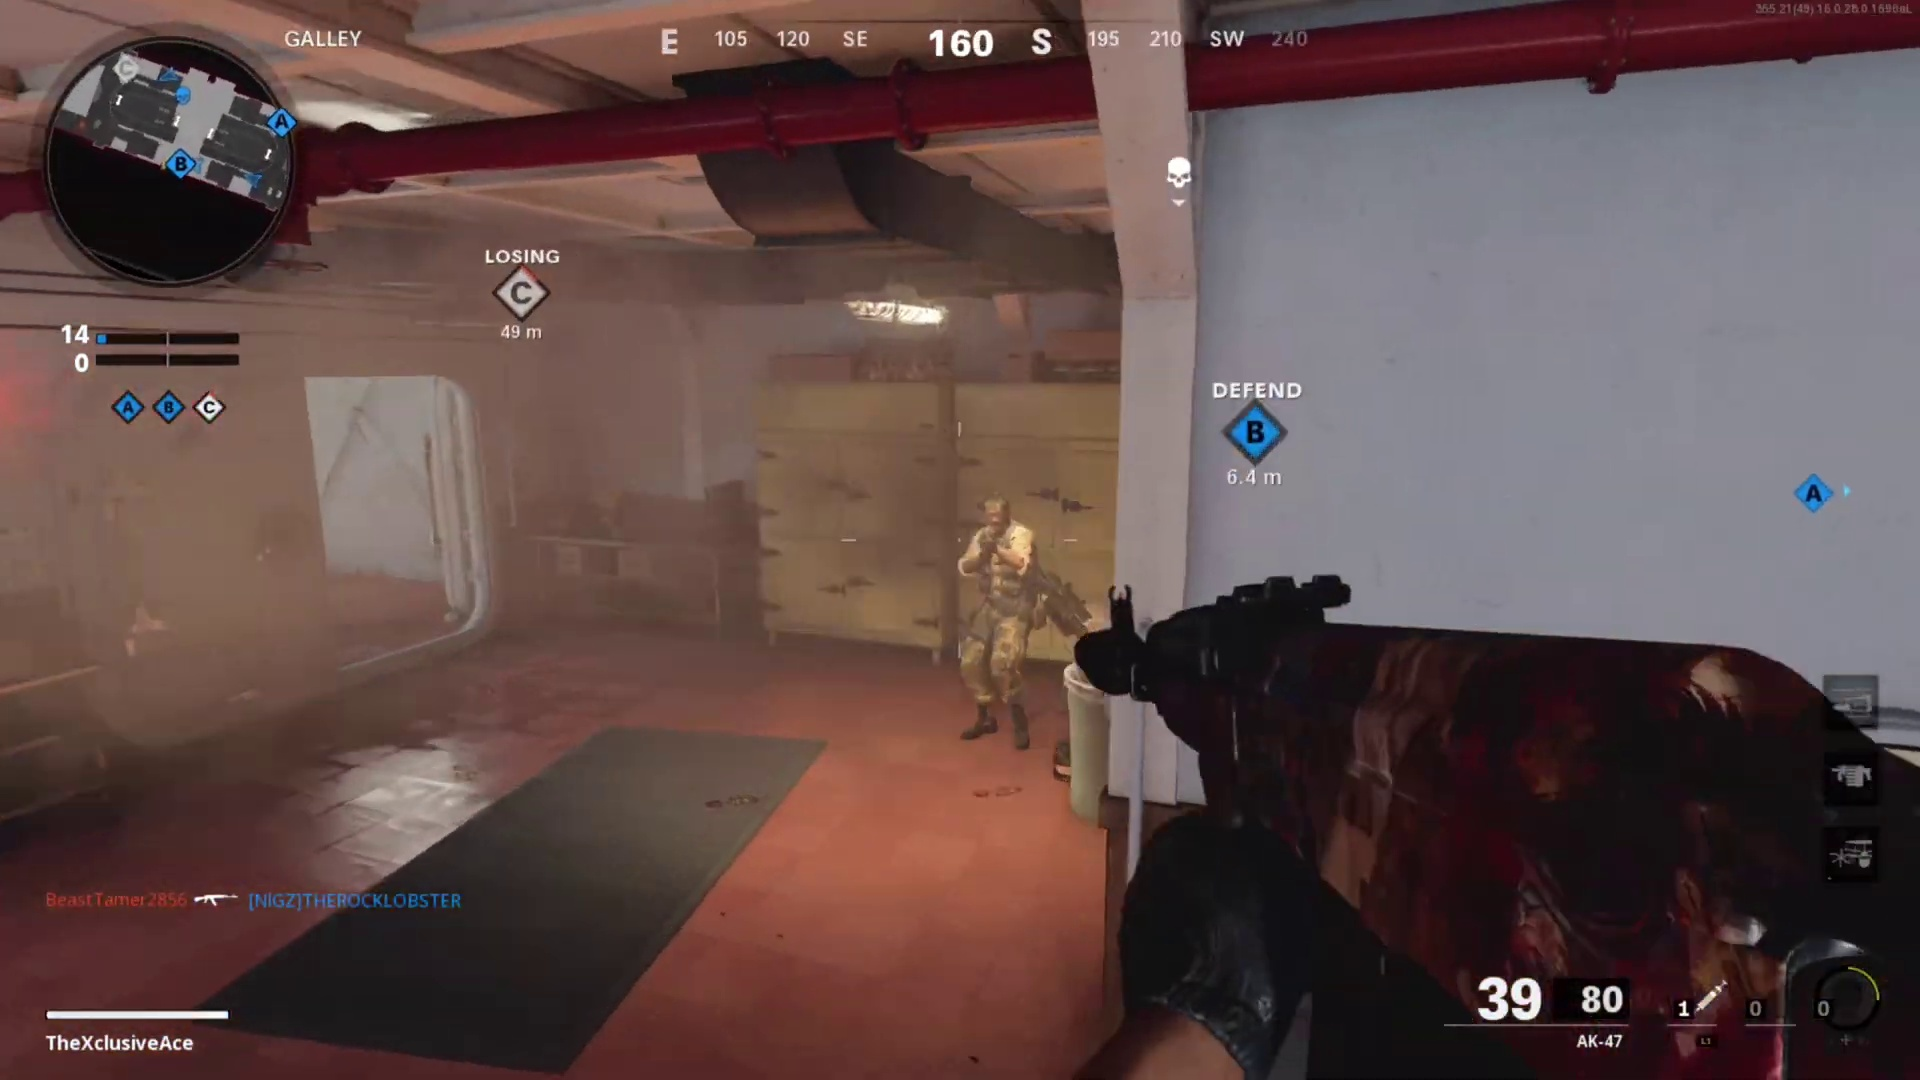head: (978, 493, 1016, 545)
person: (947, 491, 1046, 747)
